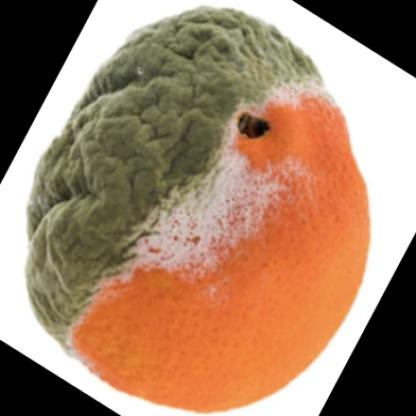rotten: (25, 8, 374, 412)
